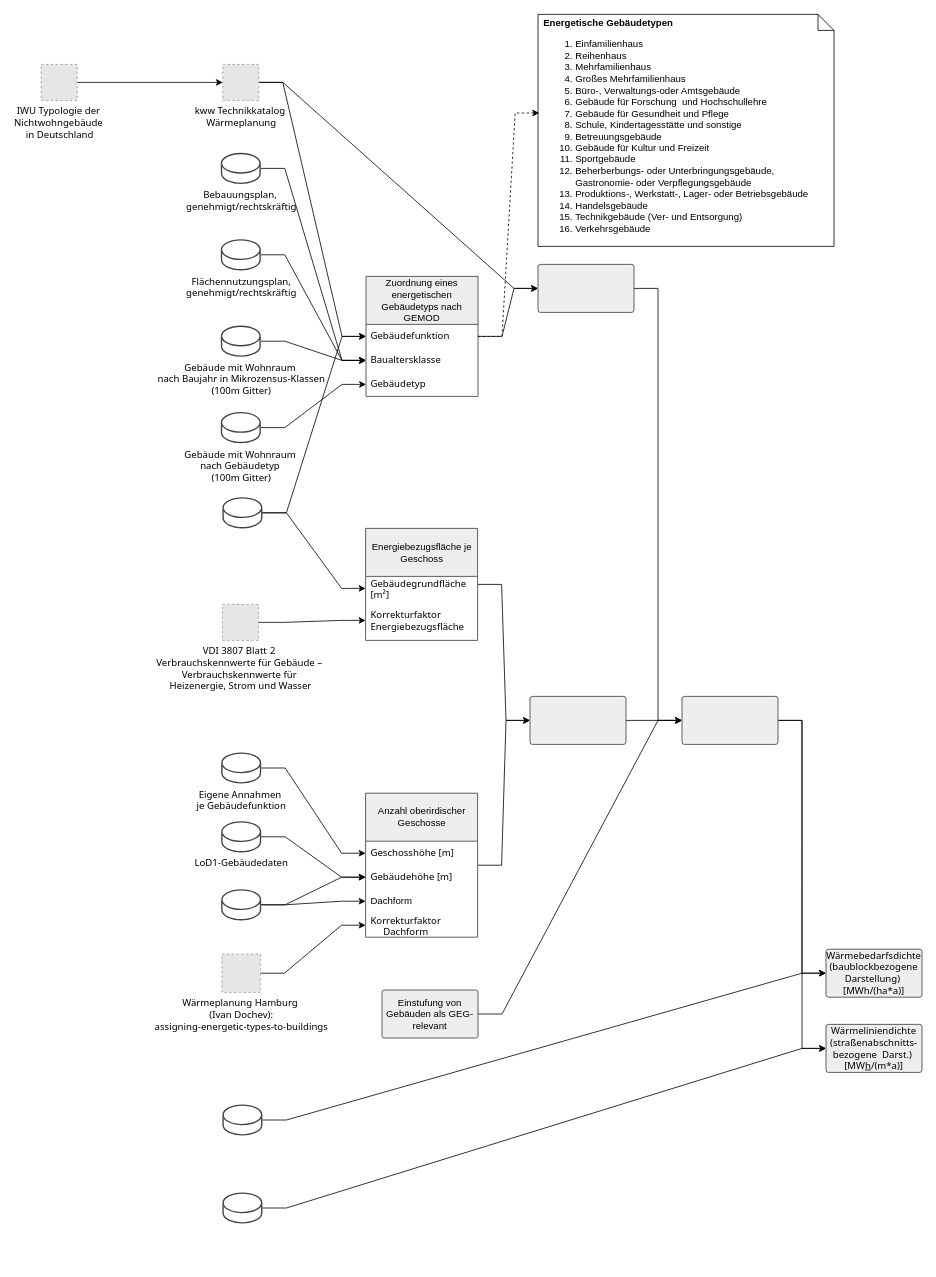
This 936x1277 diagram has some shape labels left out. Grey dashed boxes stand in for pictures. Here are the shapes that lost their labels. From the top down, the centre of each, then its label:
At (x=585, y=288): "Spezif. Nutzenergie-bedarf f. Heizung u. Warmwasser [kWh/(m²*a)]".
At (x=242, y=512): "ALKIS-Datensatz Gebäude inkl. Gebäudefunktion".
At (x=577, y=720): "Beheizte Fläche [m²]".
At (x=729, y=720): "Wärmebedarf (gebäudebezogen) [kWh/a]".
At (x=241, y=904): "LoD2-Gebäudedaten".
At (x=242, y=1119): "Digitale Basis-Landschaftsmodell (Basis-DLM): Siedlungsflächen".
At (x=242, y=1207): "Digitale Basis-Landschaftsmodell (Basis-DLM): Verkehr - Straßen-/Fahrbahnachse".
